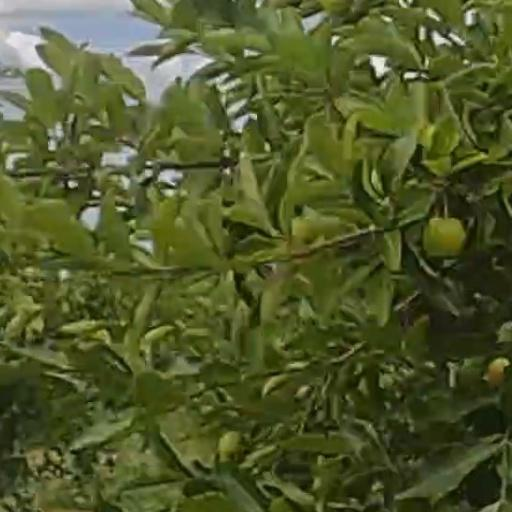acerola: (424, 217, 463, 256), (489, 359, 508, 381)
